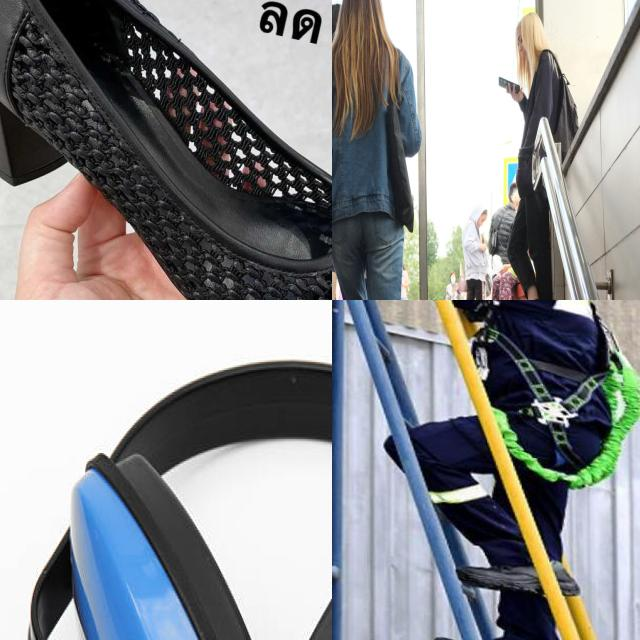Ear-protection: (0, 347, 332, 640)
Harness: (479, 300, 640, 490)
Sandals: (0, 0, 332, 300)
